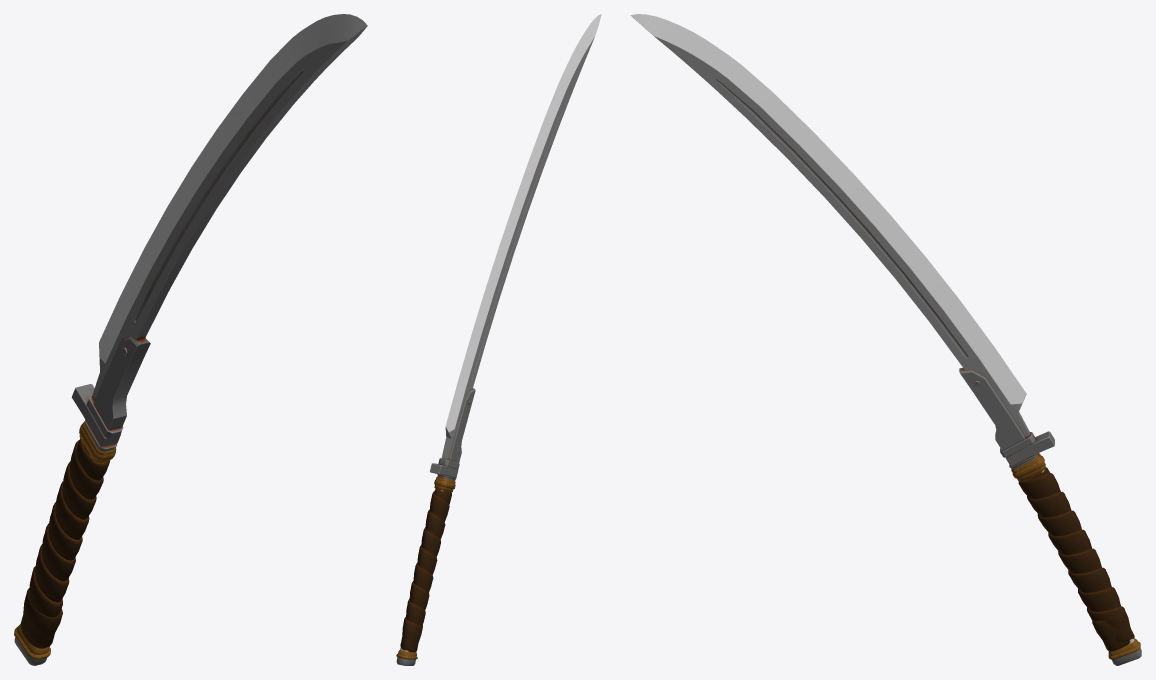
The model's file is katana.fbx.
The picture shows the model from 3 angles, left to right: view 1: azimuth 30°, elevation 25°; view 2: azimuth 150°, elevation 25°; view 3: azimuth 270°, elevation 25°; orthographic projection. The views are drawn at different scales.
Parts seen in each view (by area): view 1: Katana; view 2: Katana; view 3: Katana.
Boxes of the visible parts, left/top/right/bottom form: Katana: left=14, top=14, right=367, bottom=665; Katana: left=396, top=14, right=601, bottom=665; Katana: left=630, top=14, right=1141, bottom=665.
Size of the model in its own units: 5.63 by 182 by 129.
1 material, 1 textured.
